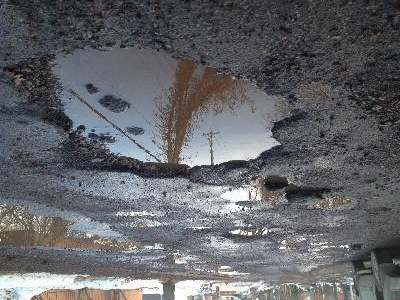pothole: (17, 46, 304, 184), (224, 226, 271, 242), (312, 196, 359, 211), (219, 189, 261, 205)
